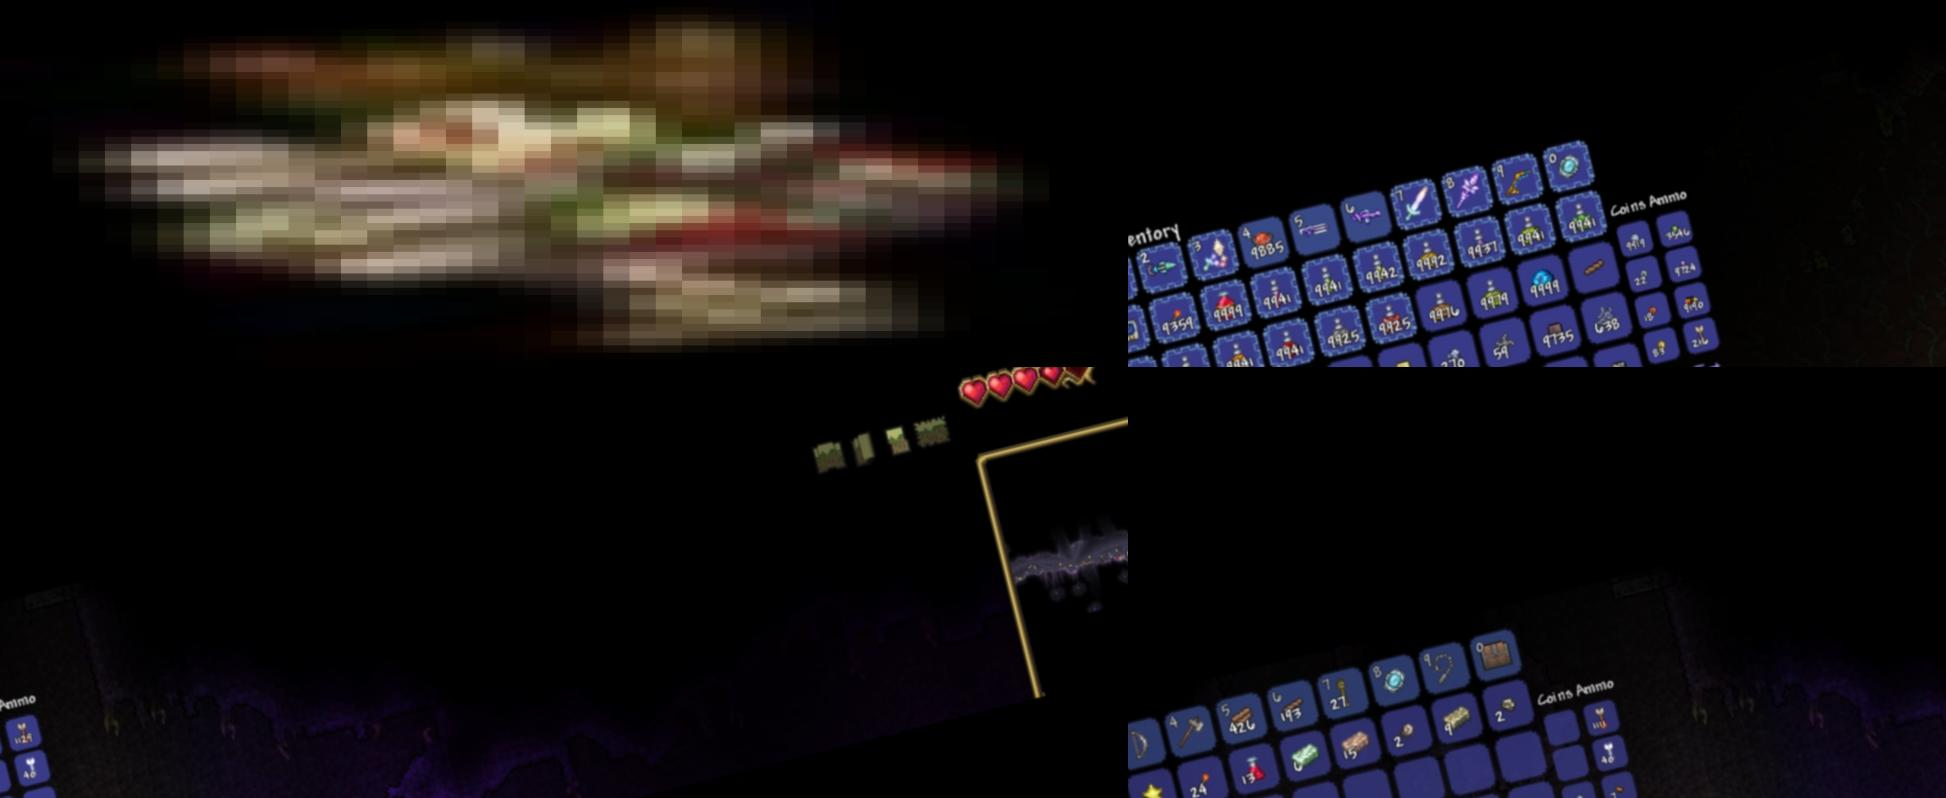potion: (1241, 751, 1268, 786)
zombie: (0, 0, 1128, 367)
